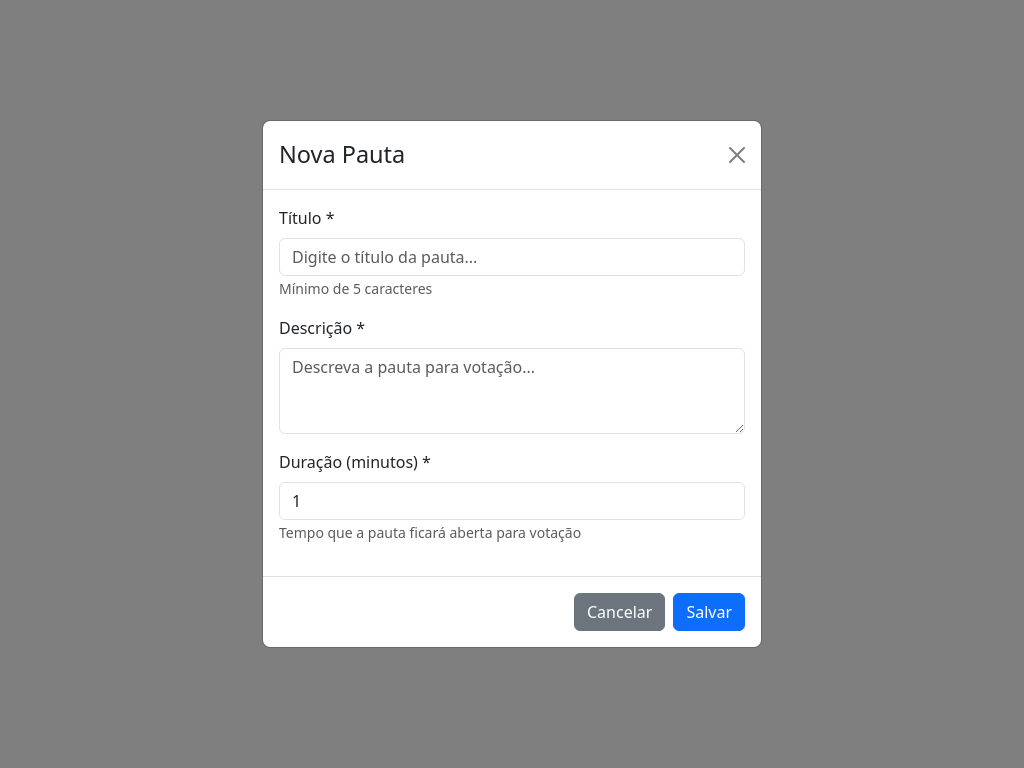
PautaModalForm › deve exibir erro padrão quando API não retorna mensagem
The image size is (1024, 768).
In the field with placeholder "Digite o título da pauta...": (512, 257) [279,238,745,276], type "Pauta Válida"
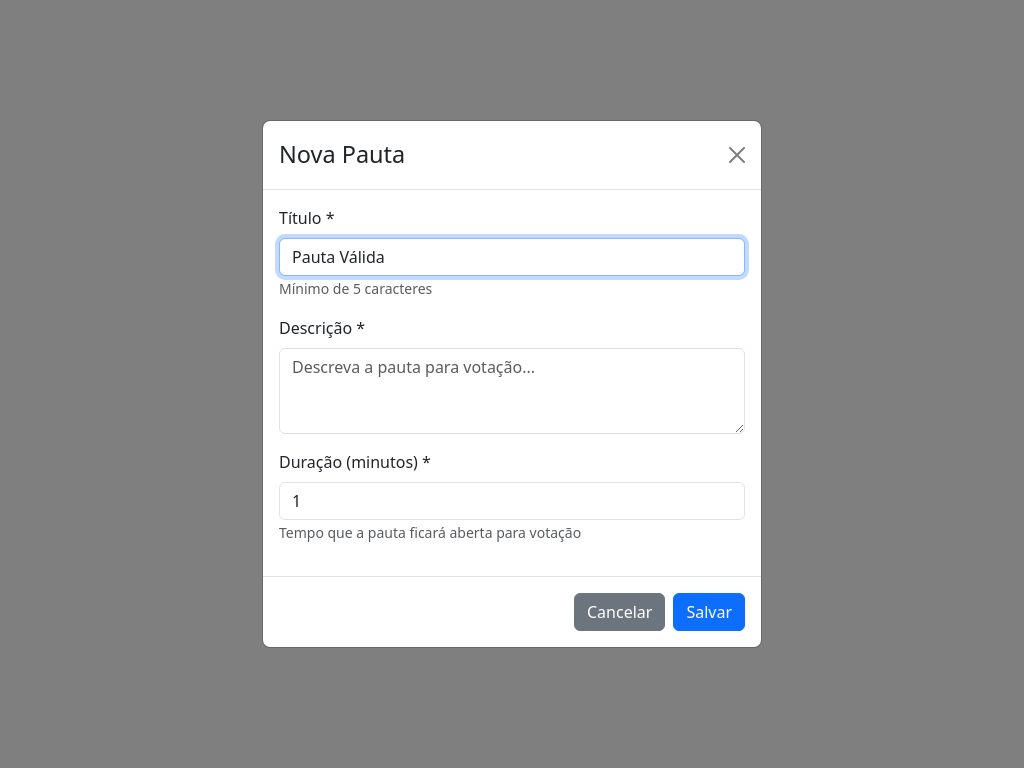
Replace the text in the number field with "5": (512, 501) [279,482,745,520]
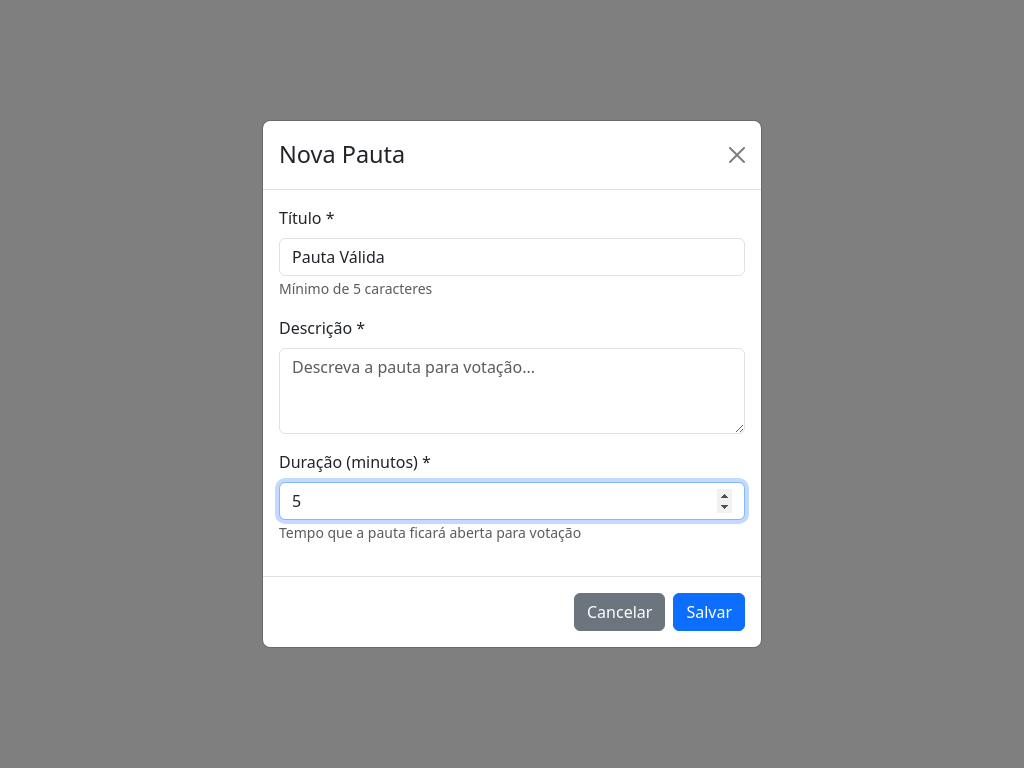
Click the button "Salvar": (709, 612) [673,593,745,631]
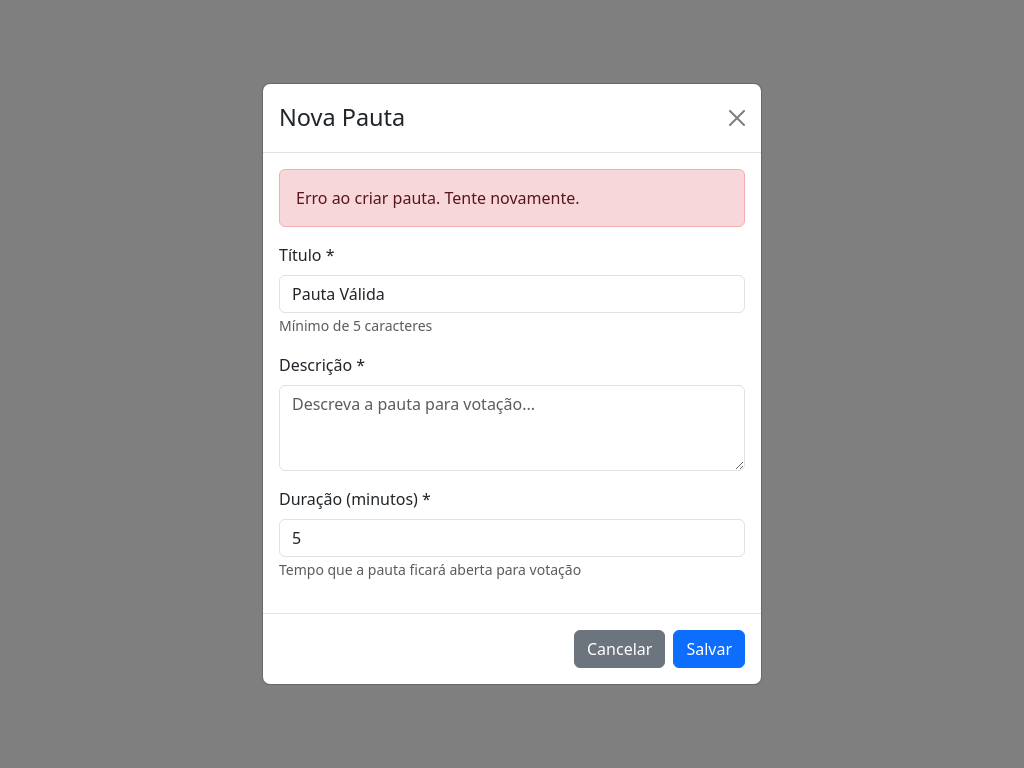
Expected: the text "Erro ao criar pauta. Tente novamente." is shown, [279,169,745,227]
